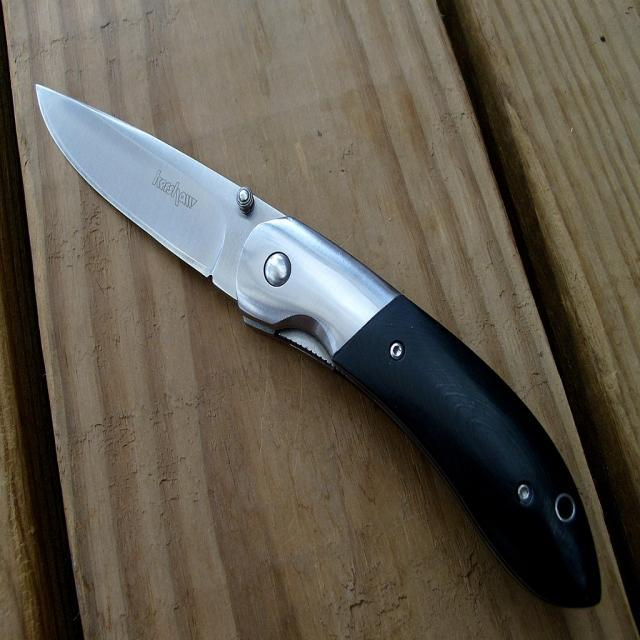Knife: (36, 86, 600, 608)
